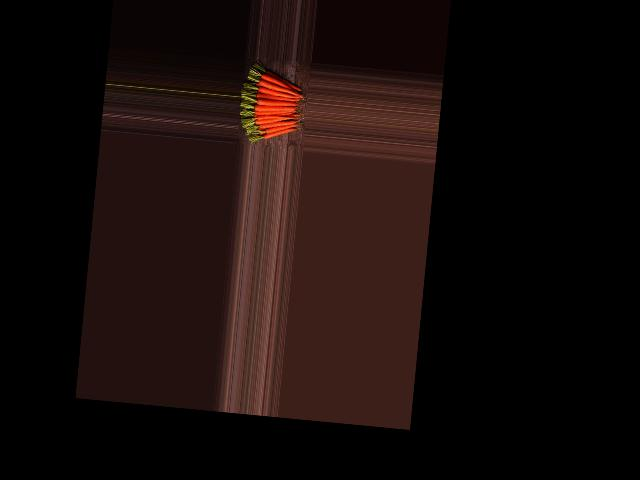carrot: (261, 132, 295, 141)
